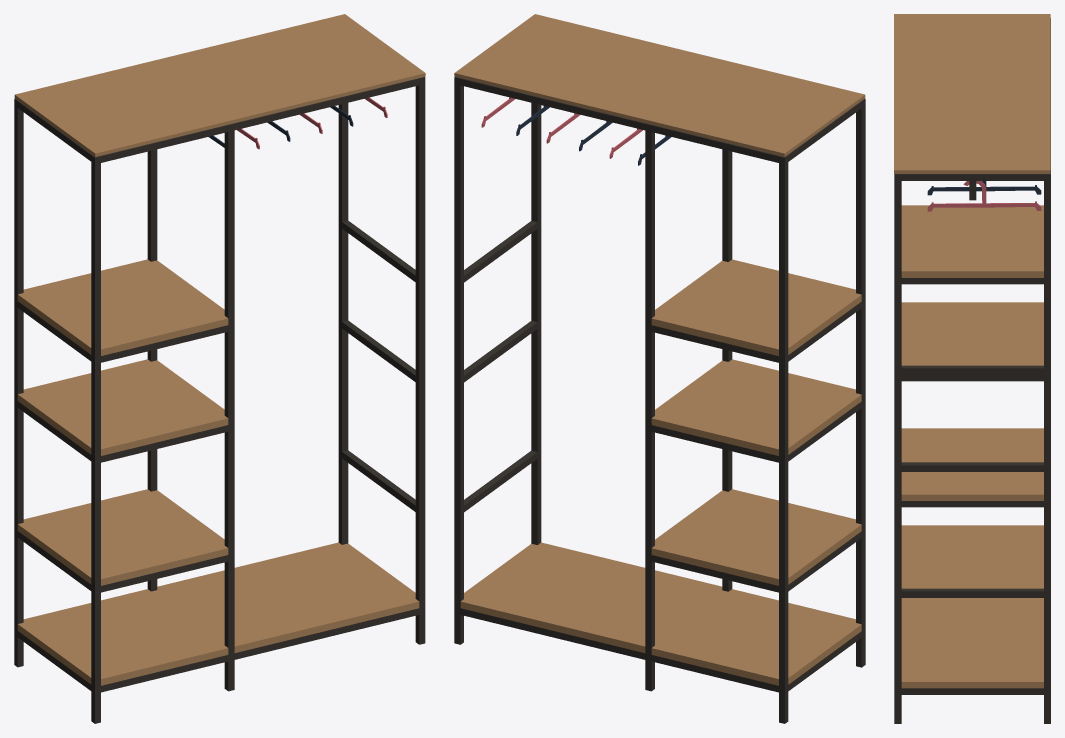
File: clothing_storage_rack.glb
The picture shows the model from 3 angles, left to right: view 1: azimuth 30°, elevation 25°; view 2: azimuth 150°, elevation 25°; view 3: azimuth 270°, elevation 25°; orthographic projection. The views are drawn at different scales.
Visible parts, largest first — view 1: Clothing storage rack TierSet_0, Clothing storage rack bars_7; view 2: Clothing storage rack TierSet_0, Clothing storage rack bars_7; view 3: Clothing storage rack TierSet_0, Clothing storage rack bars_7, Coat hanger for female 3_3, Coat hanger for male 3_6.
Boxes of the visible parts, box(x1,y1,x2,y2) form: Clothing storage rack TierSet_0: box(14, 14, 425, 685); Clothing storage rack bars_7: box(14, 77, 425, 723); Clothing storage rack TierSet_0: box(454, 14, 865, 685); Clothing storage rack bars_7: box(454, 77, 865, 723); Clothing storage rack TierSet_0: box(894, 14, 1050, 688); Clothing storage rack bars_7: box(894, 18, 1050, 723); Coat hanger for female 3_3: box(927, 181, 1041, 211); Coat hanger for male 3_6: box(927, 181, 1041, 195).
Bounding box in the file's own units: 10.39 × 17.13 × 4.4.
